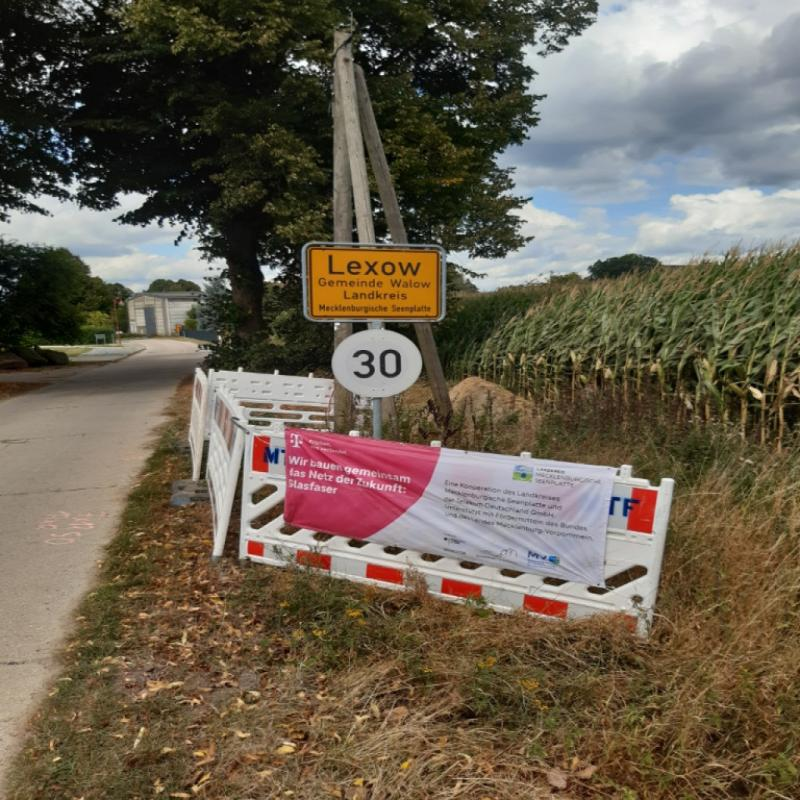Banner: (284, 427, 615, 584)
